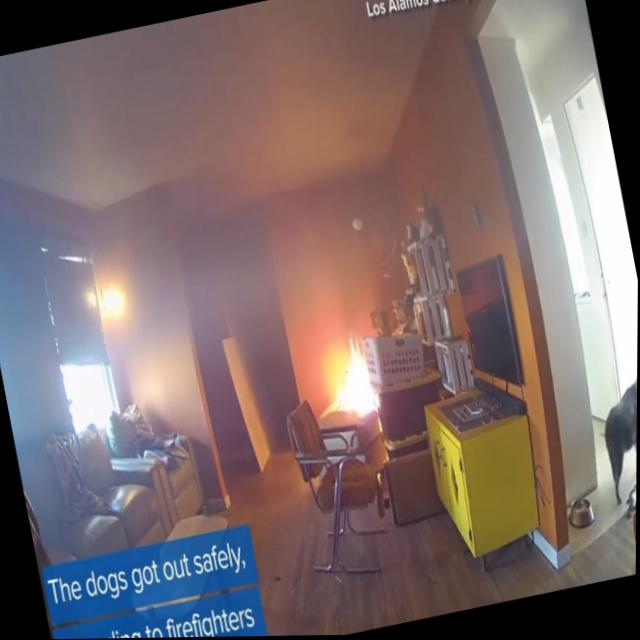fire: (320, 333, 380, 424)
